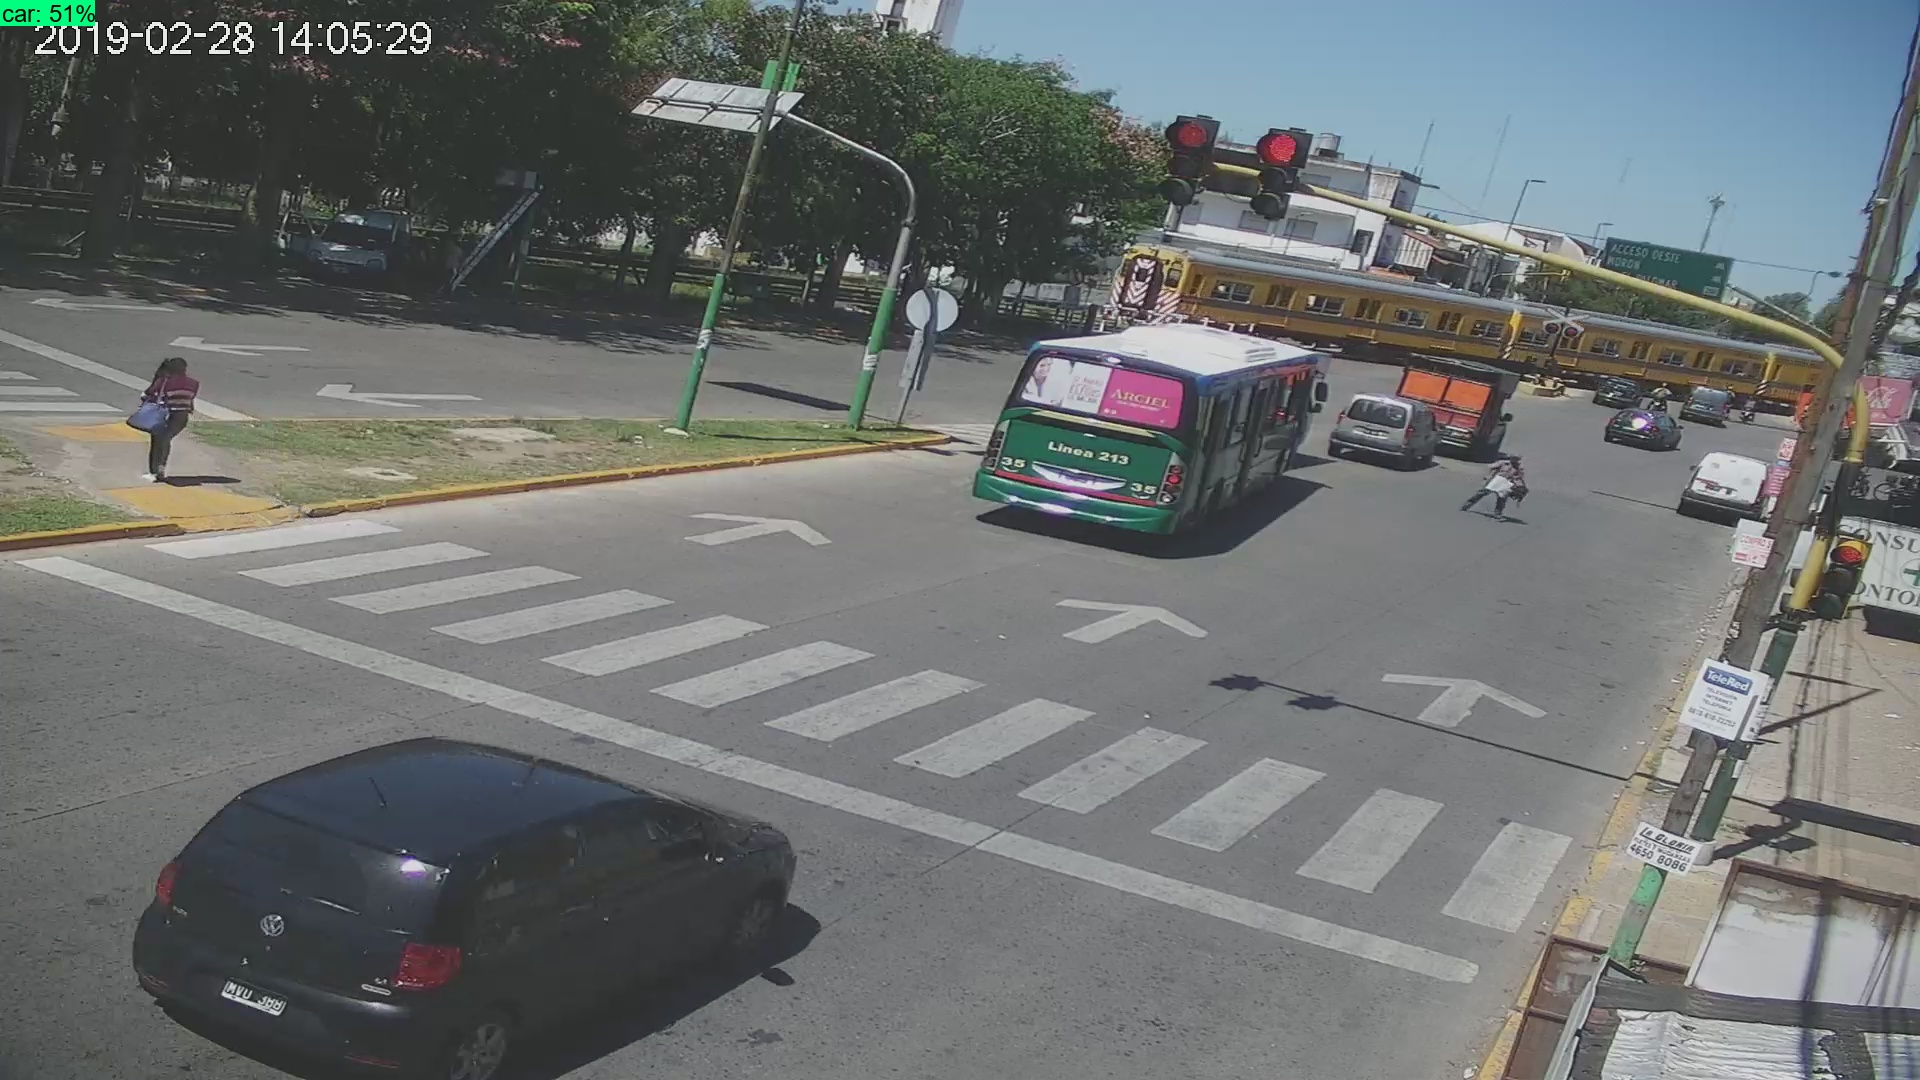bus: (971, 322, 1337, 563)
car: (120, 657, 822, 1080), (1327, 382, 1439, 472), (1680, 451, 1772, 520), (1598, 400, 1687, 454)
